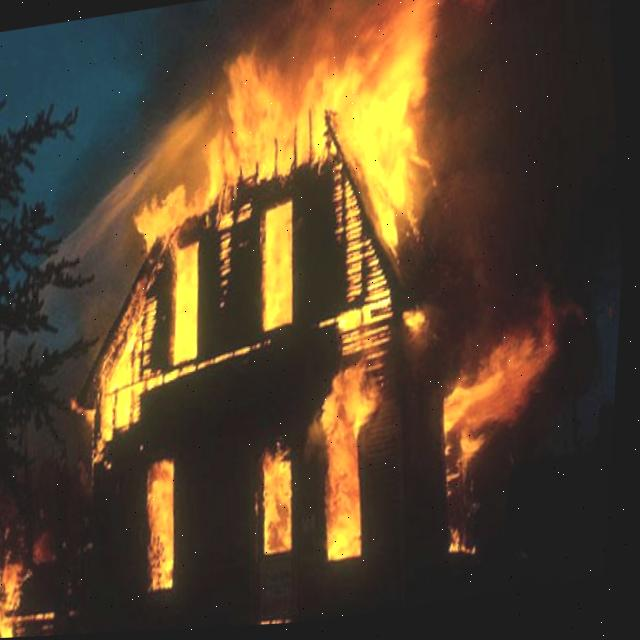fire: (80, 0, 603, 635), (0, 347, 102, 638), (0, 502, 63, 639)
smoke: (0, 0, 626, 611)
